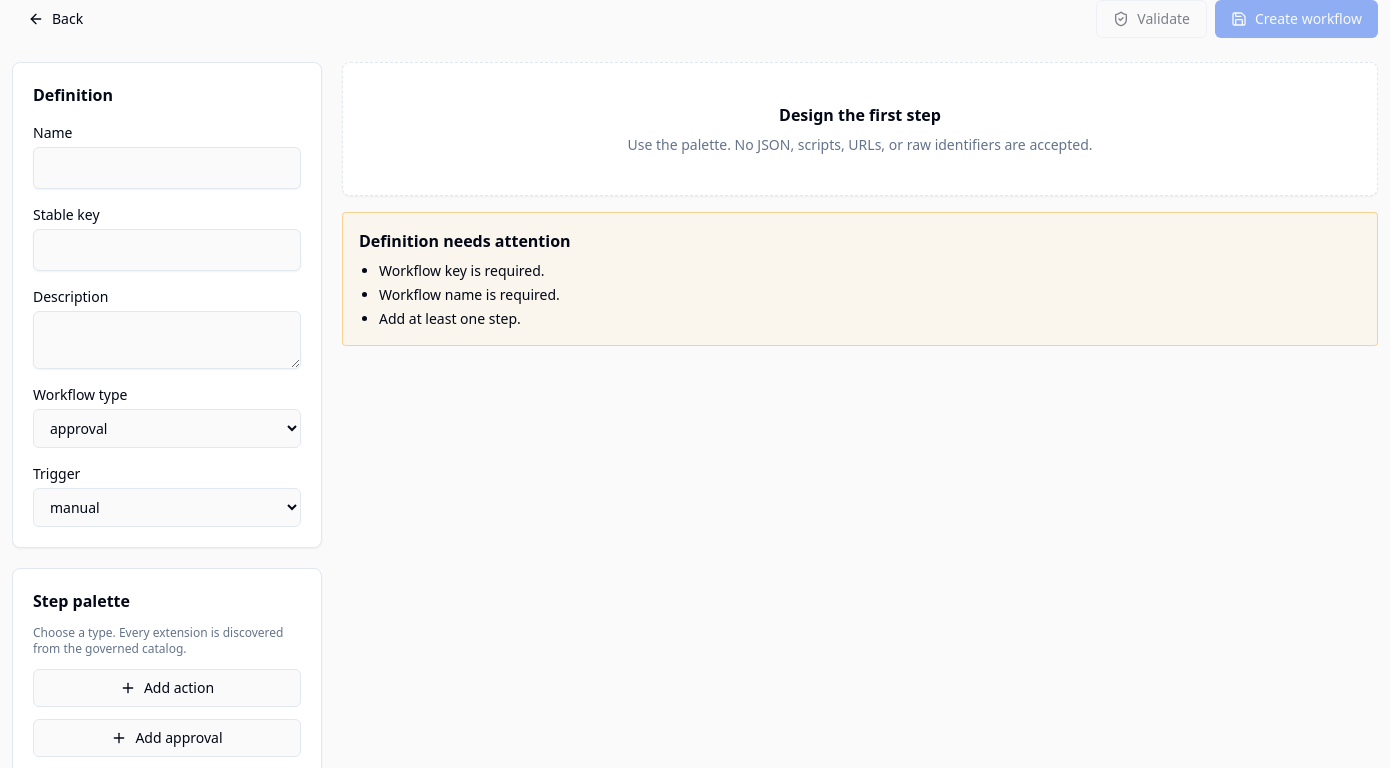
WorkflowBuilder › renders the empty builder state and blocks submit until a terminal step exists
The image size is (1390, 768).
Expected: the heading "Design the first step" is shown, [779, 104, 941, 126]
Expected: the list item "Workflow key is required." is shown, [379, 261, 545, 280]
Type "Single notice" into the field labelled "Name" at [167, 168], box [33, 147, 301, 189]
(page scrolled)
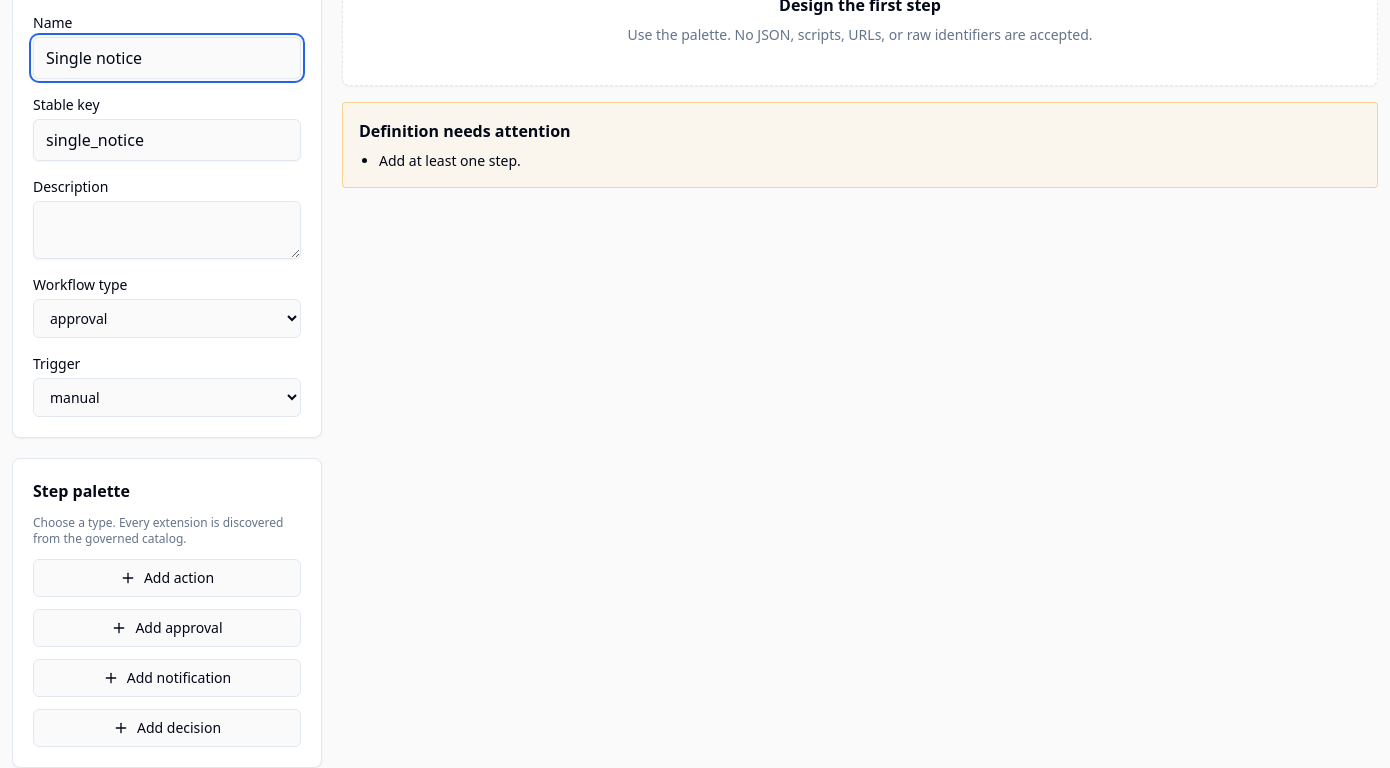
Click the button "Add notification" at [167, 678], box [33, 659, 301, 697]
(page scrolled)
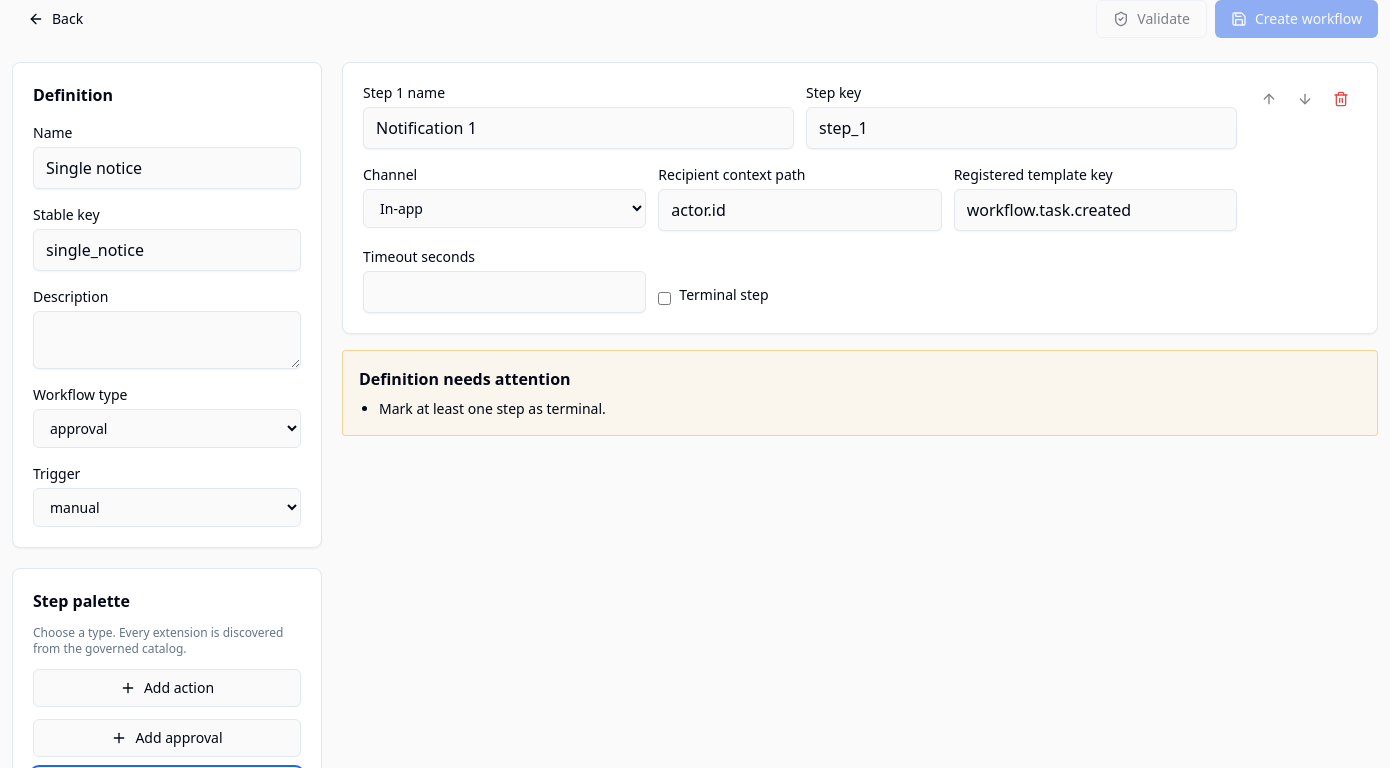
Expected: the button "Create workflow" is disabled, [1215, 0, 1378, 38]
Expected: the list item "Mark at least one step as terminal." is shown, [379, 399, 606, 418]
